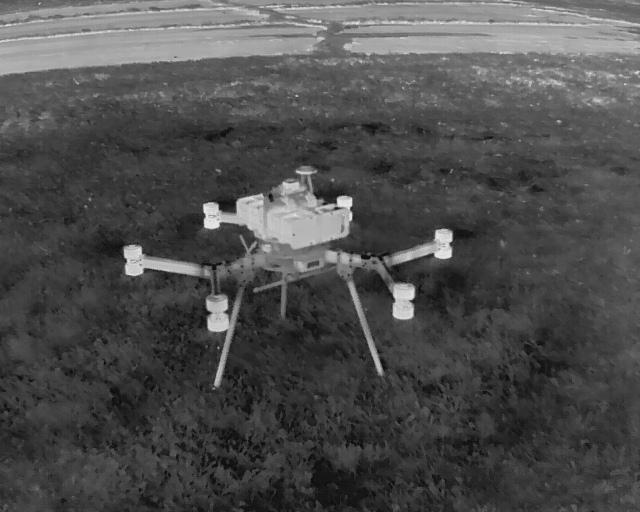drone: (81, 158, 492, 386)
